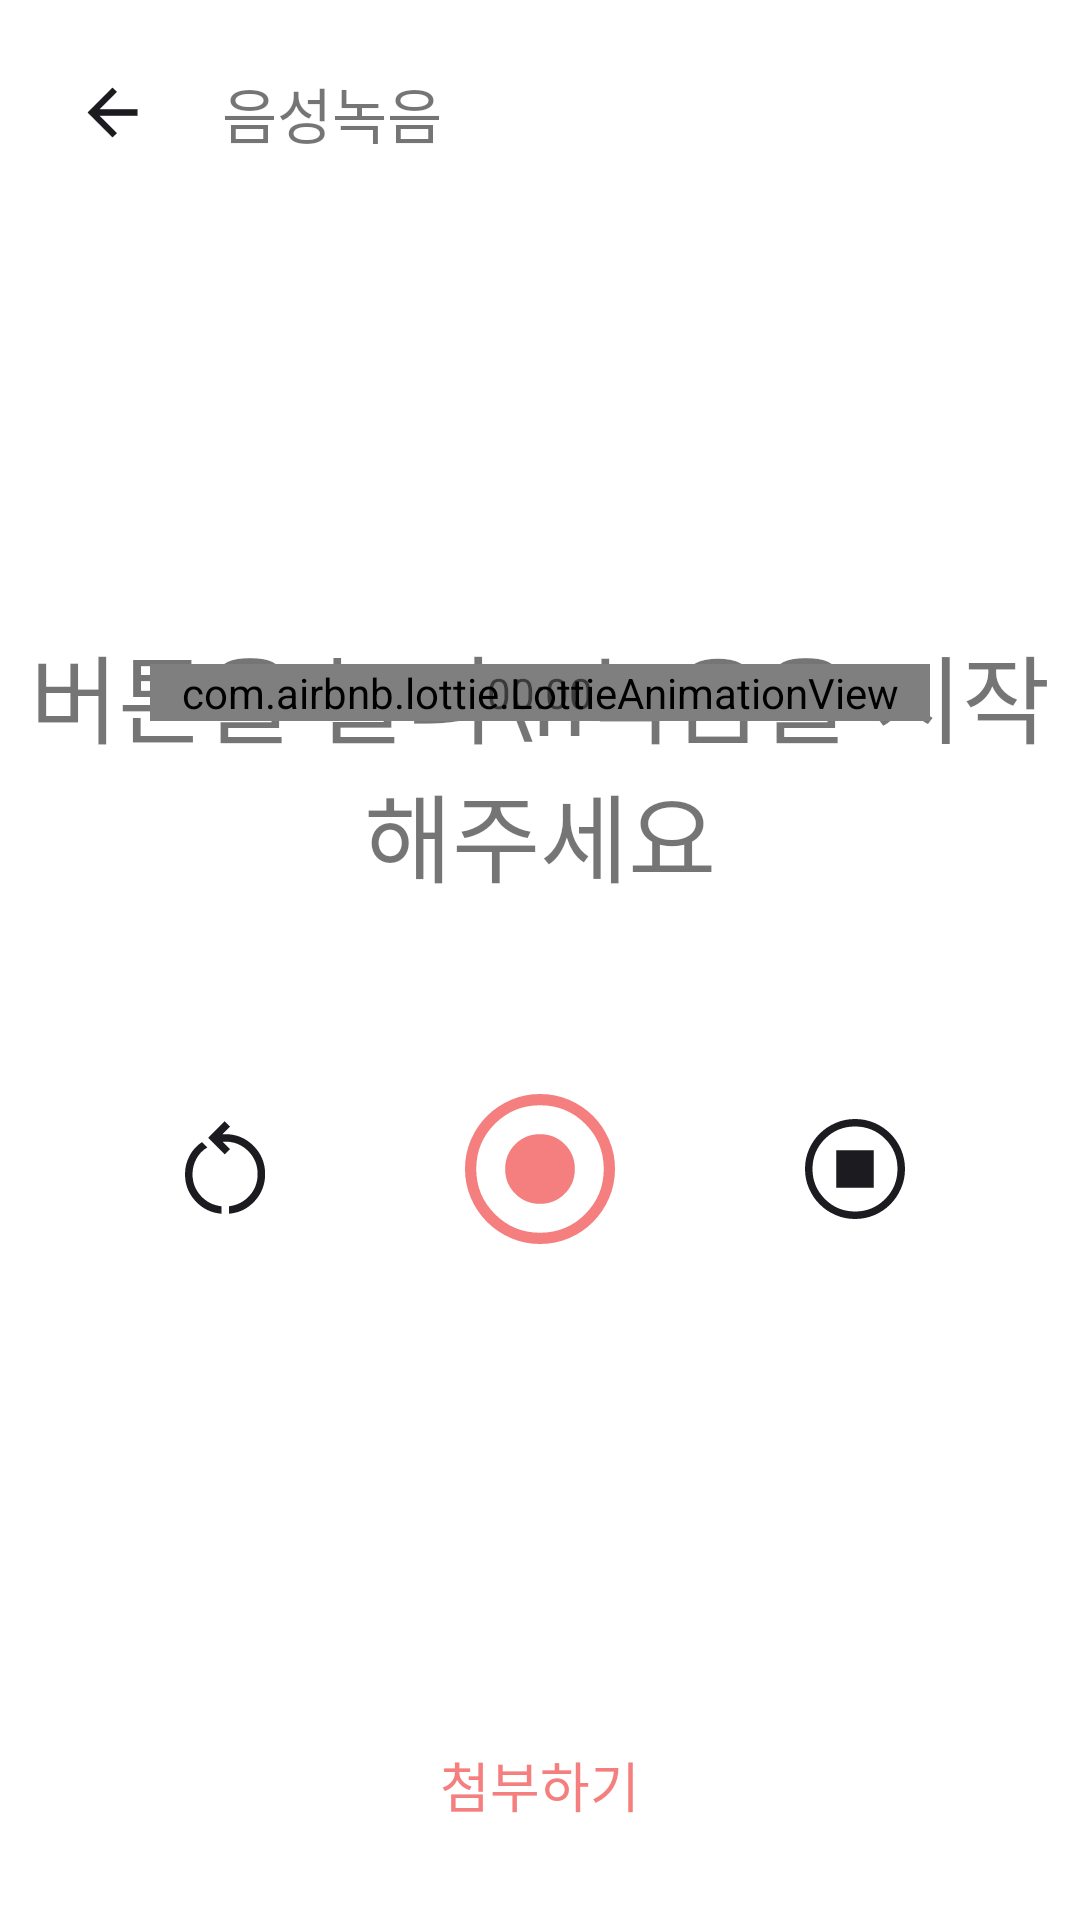

Icons on this 1080w x 1920h Android screen, each with its box as region(x1, y1, x2, y2):
back: region(87, 87, 138, 138)
letter record reset: region(185, 1121, 265, 1214)
letter record start: region(465, 1094, 615, 1244)
letter record stop: region(805, 1119, 905, 1219)
